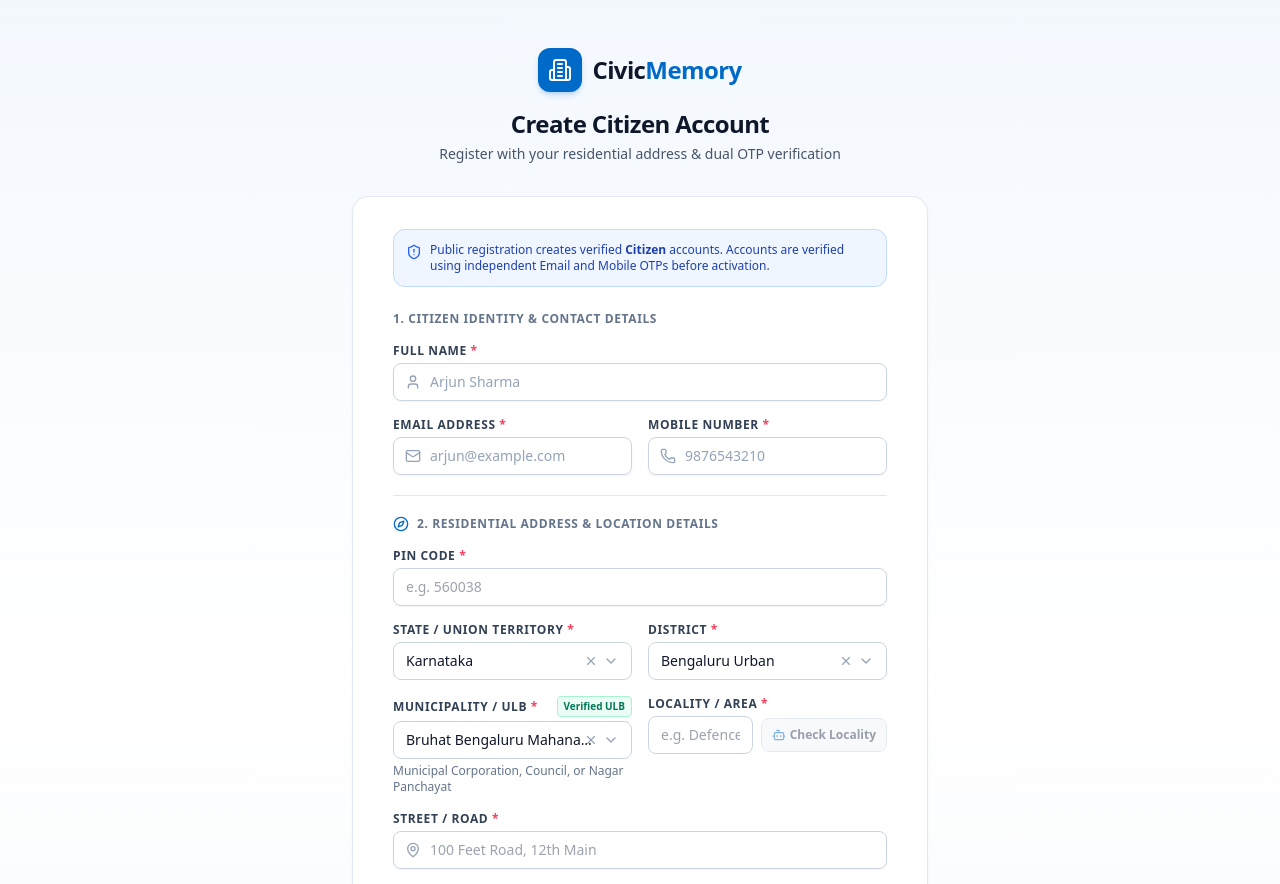
it: RegisterPage — Citizen Registration & Address Selection Enhancement › 8. AI locality check applies suggested spelling correction when clicked
The image size is (1280, 884).
Step 1. Type "560038" into the field with placeholder "e.g. 560038" → (640, 587), box [393,568,887,606]
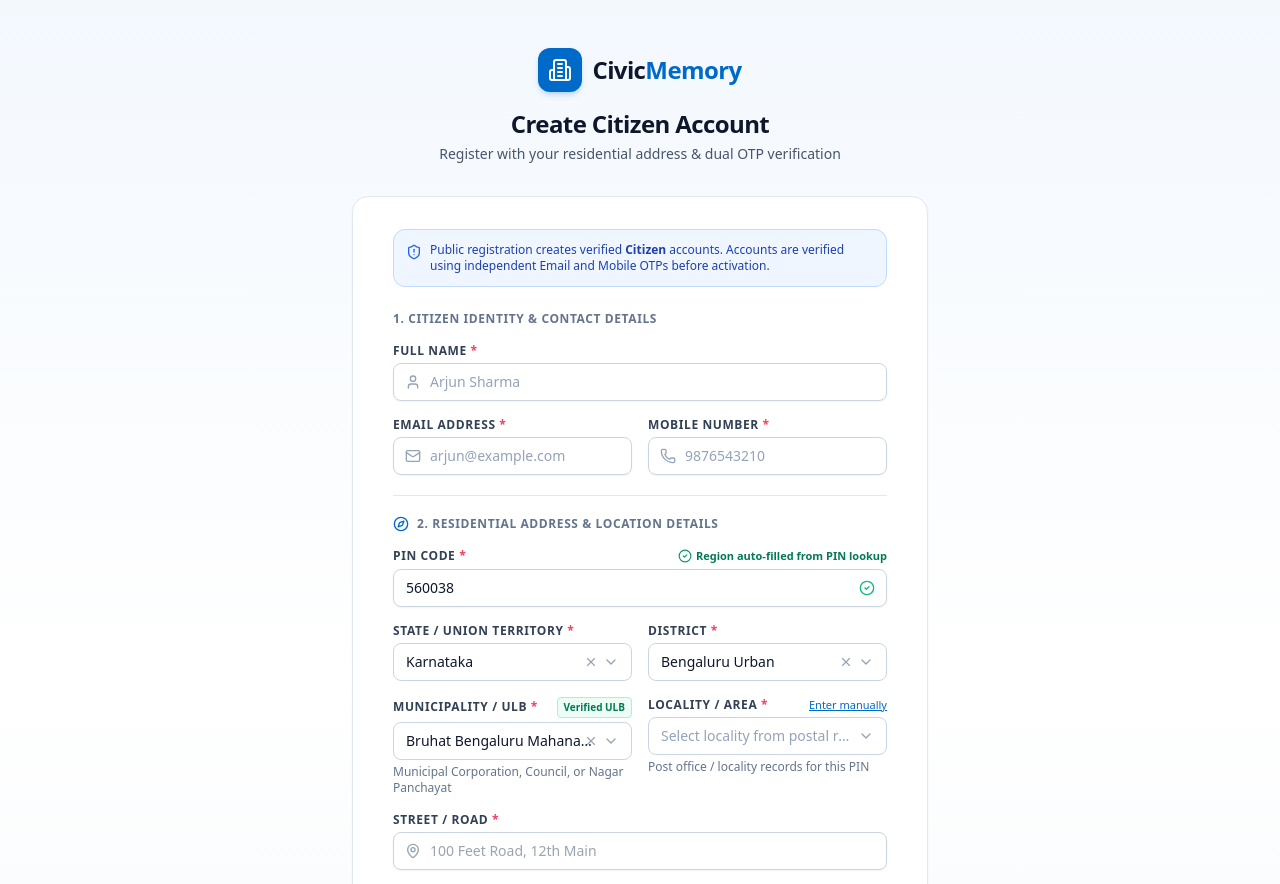
Expected: the button "Enter manually" is shown
Step 2. Click the button "Enter manually" → (848, 705), box [809,696,887,713]
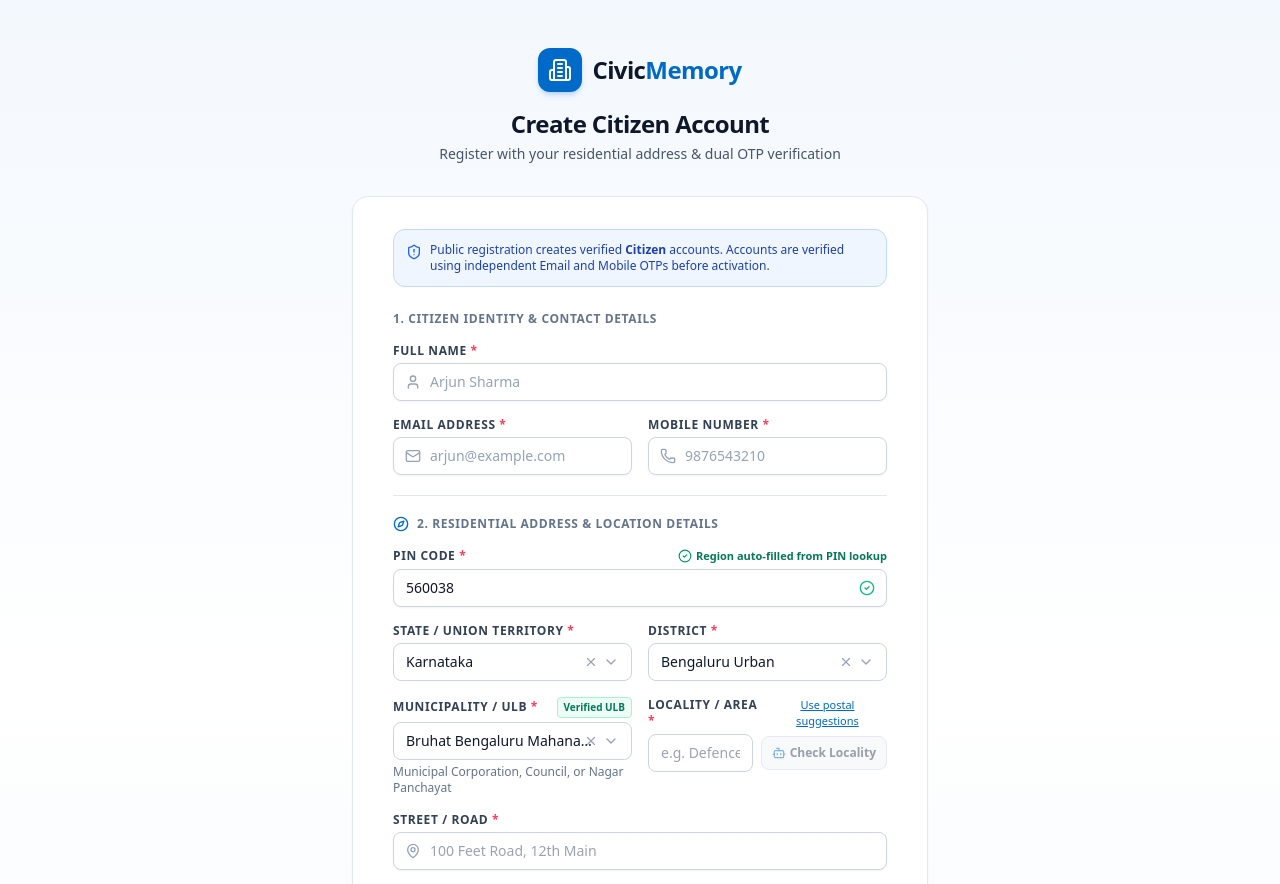
Step 3. Type "Defenc Colny" into the field with placeholder "e.g. Defence Colony, Sector 4" → (700, 752), box [648,734,753,772]
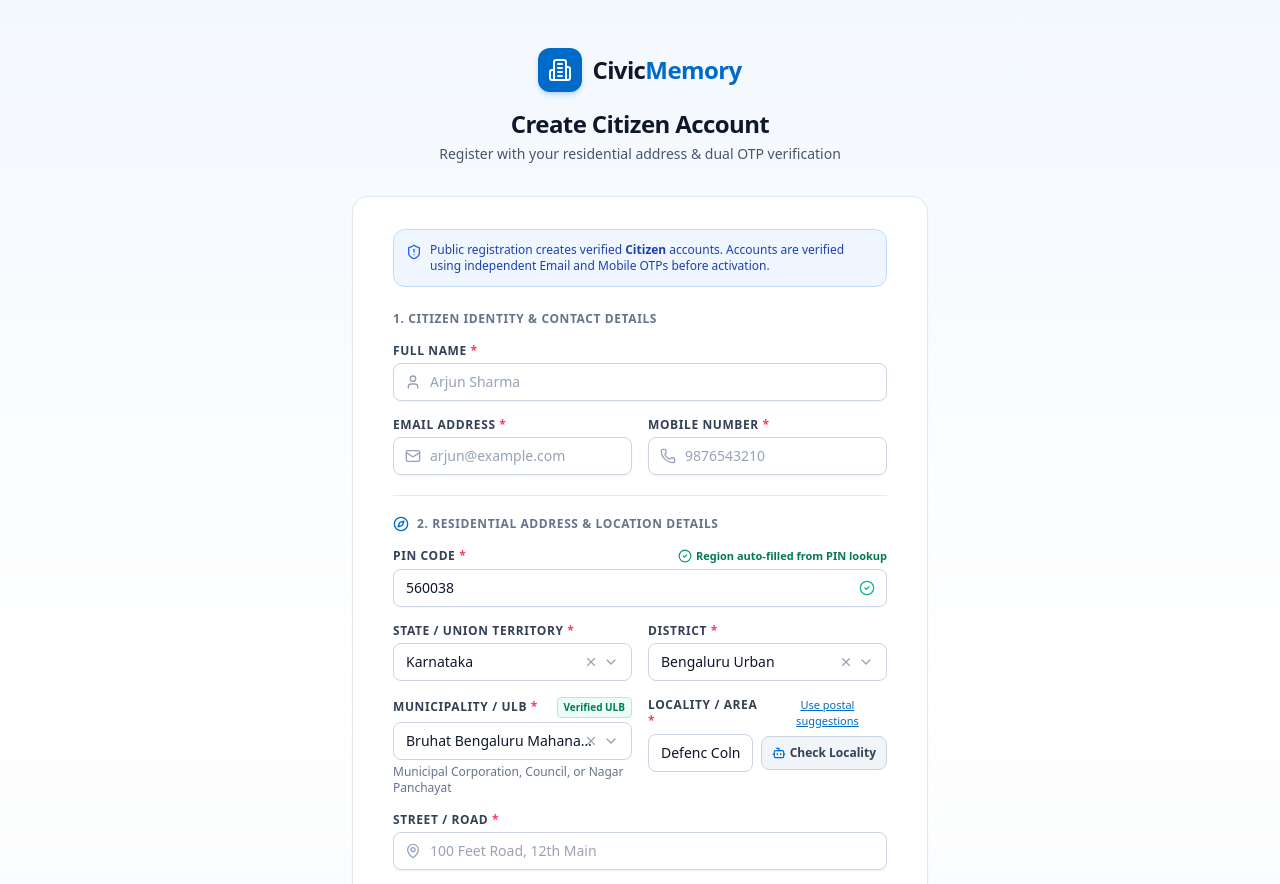
Step 4. Click the button titled "check locality plausibility with ai assistant" → (824, 752), box [761,736,887,770]
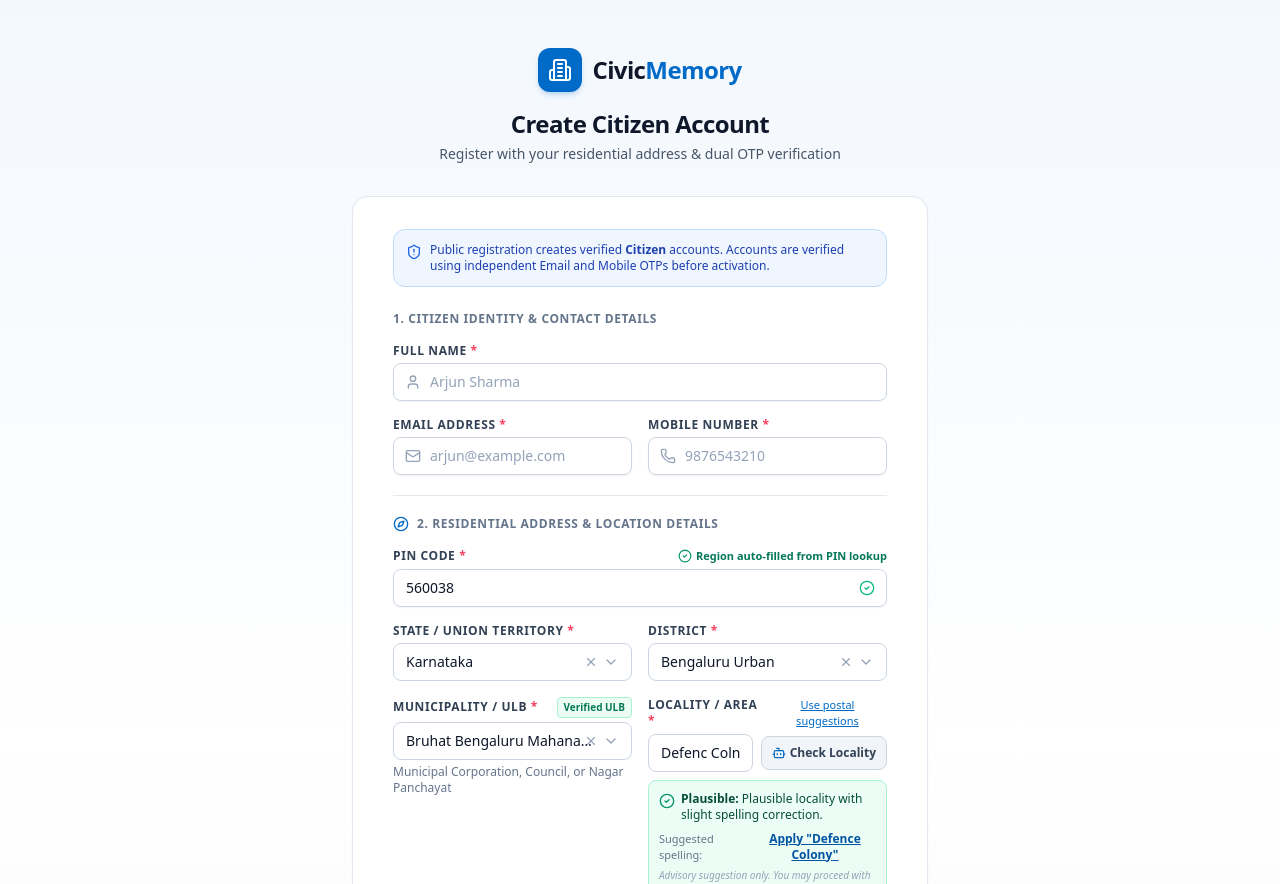
Expected: the button "Apply \"Defence Colony\"" is shown
Step 5. Click the button "Apply \"Defence Colony\"" → (815, 846), box [754,830,876,862]
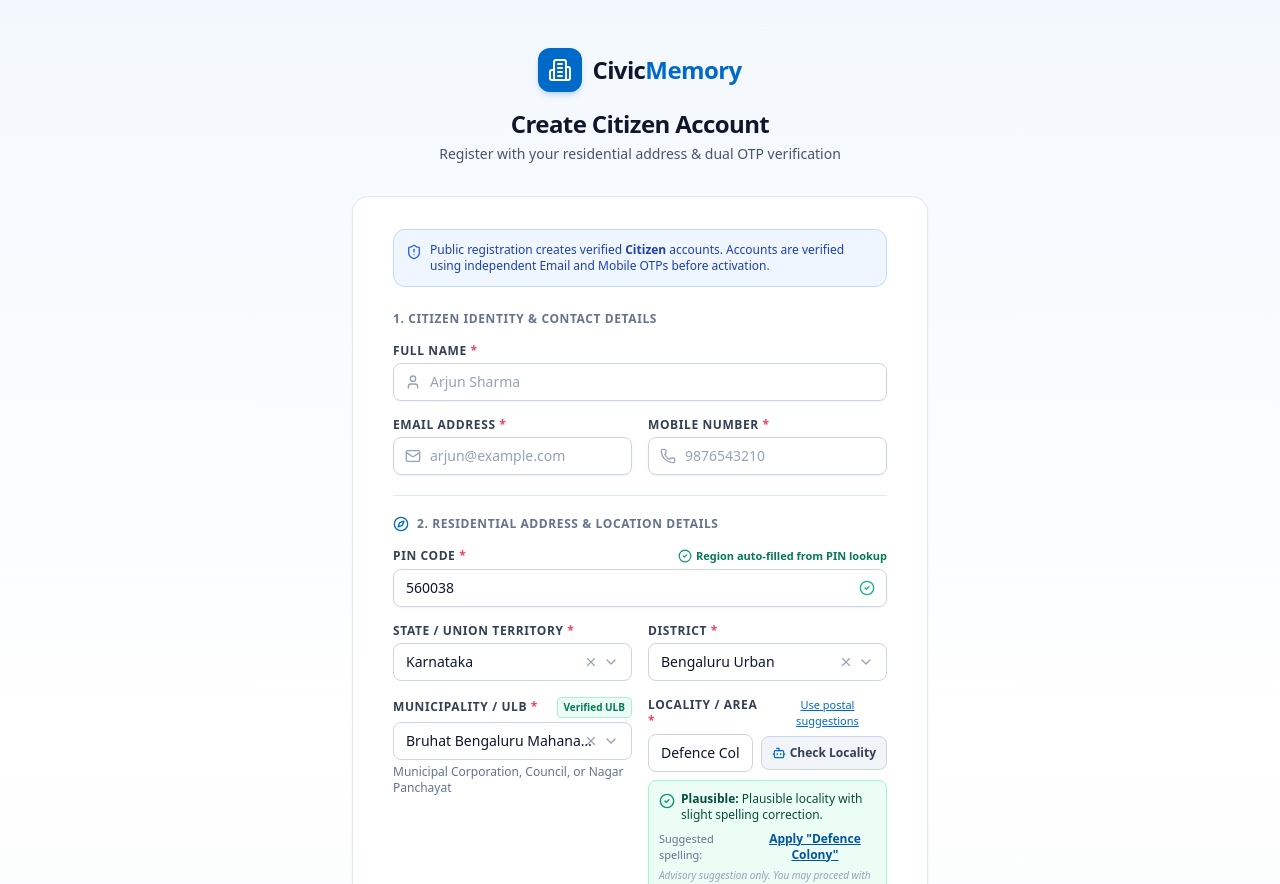
Expected: the field with placeholder "e.g. Defence Colony, Sector 4" holds "Defence Colony", [648,734,753,772]
